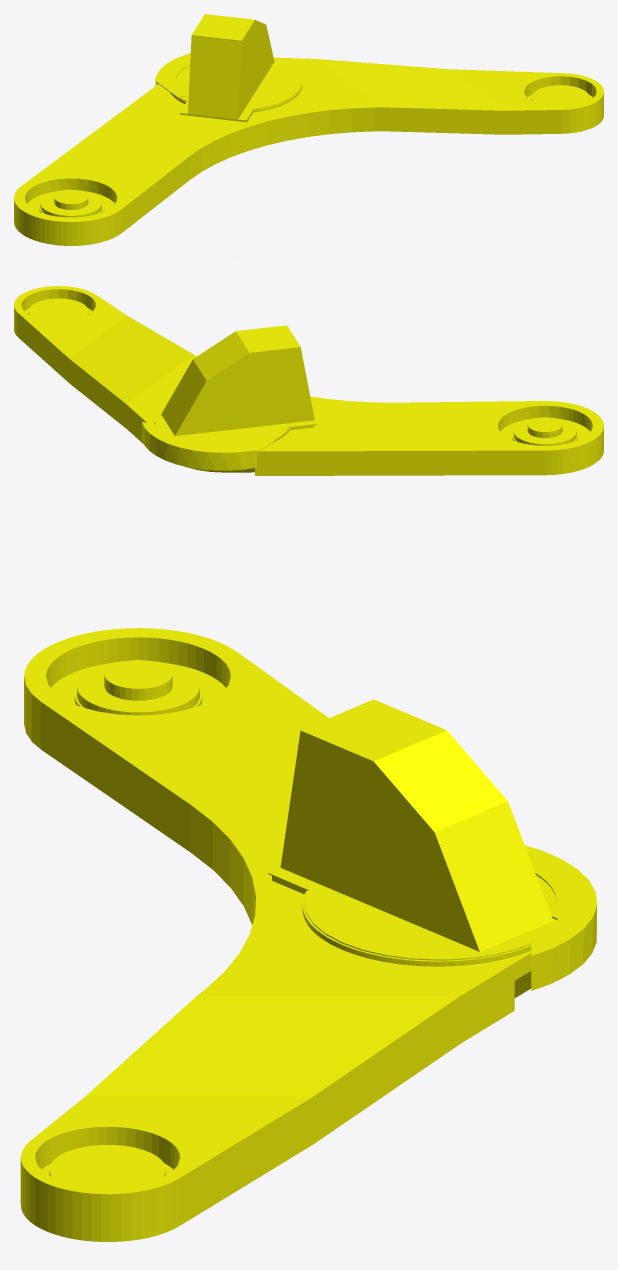
3 views of the same model, one above another, from view 1: azimuth 30°, elevation 25°; view 2: azimuth 150°, elevation 25°; view 3: azimuth 270°, elevation 25° (orthographic). The views are drawn at different scales.
Parts seen in each view (by area): view 1: node; view 2: node; view 3: node.
Part boxes in pixels (bbox=[...]): node: bbox=[14, 14, 603, 257]; node: bbox=[14, 286, 603, 475]; node: bbox=[20, 628, 597, 1241].
Size of the model in its own units: 1194 by 499 by 524.
